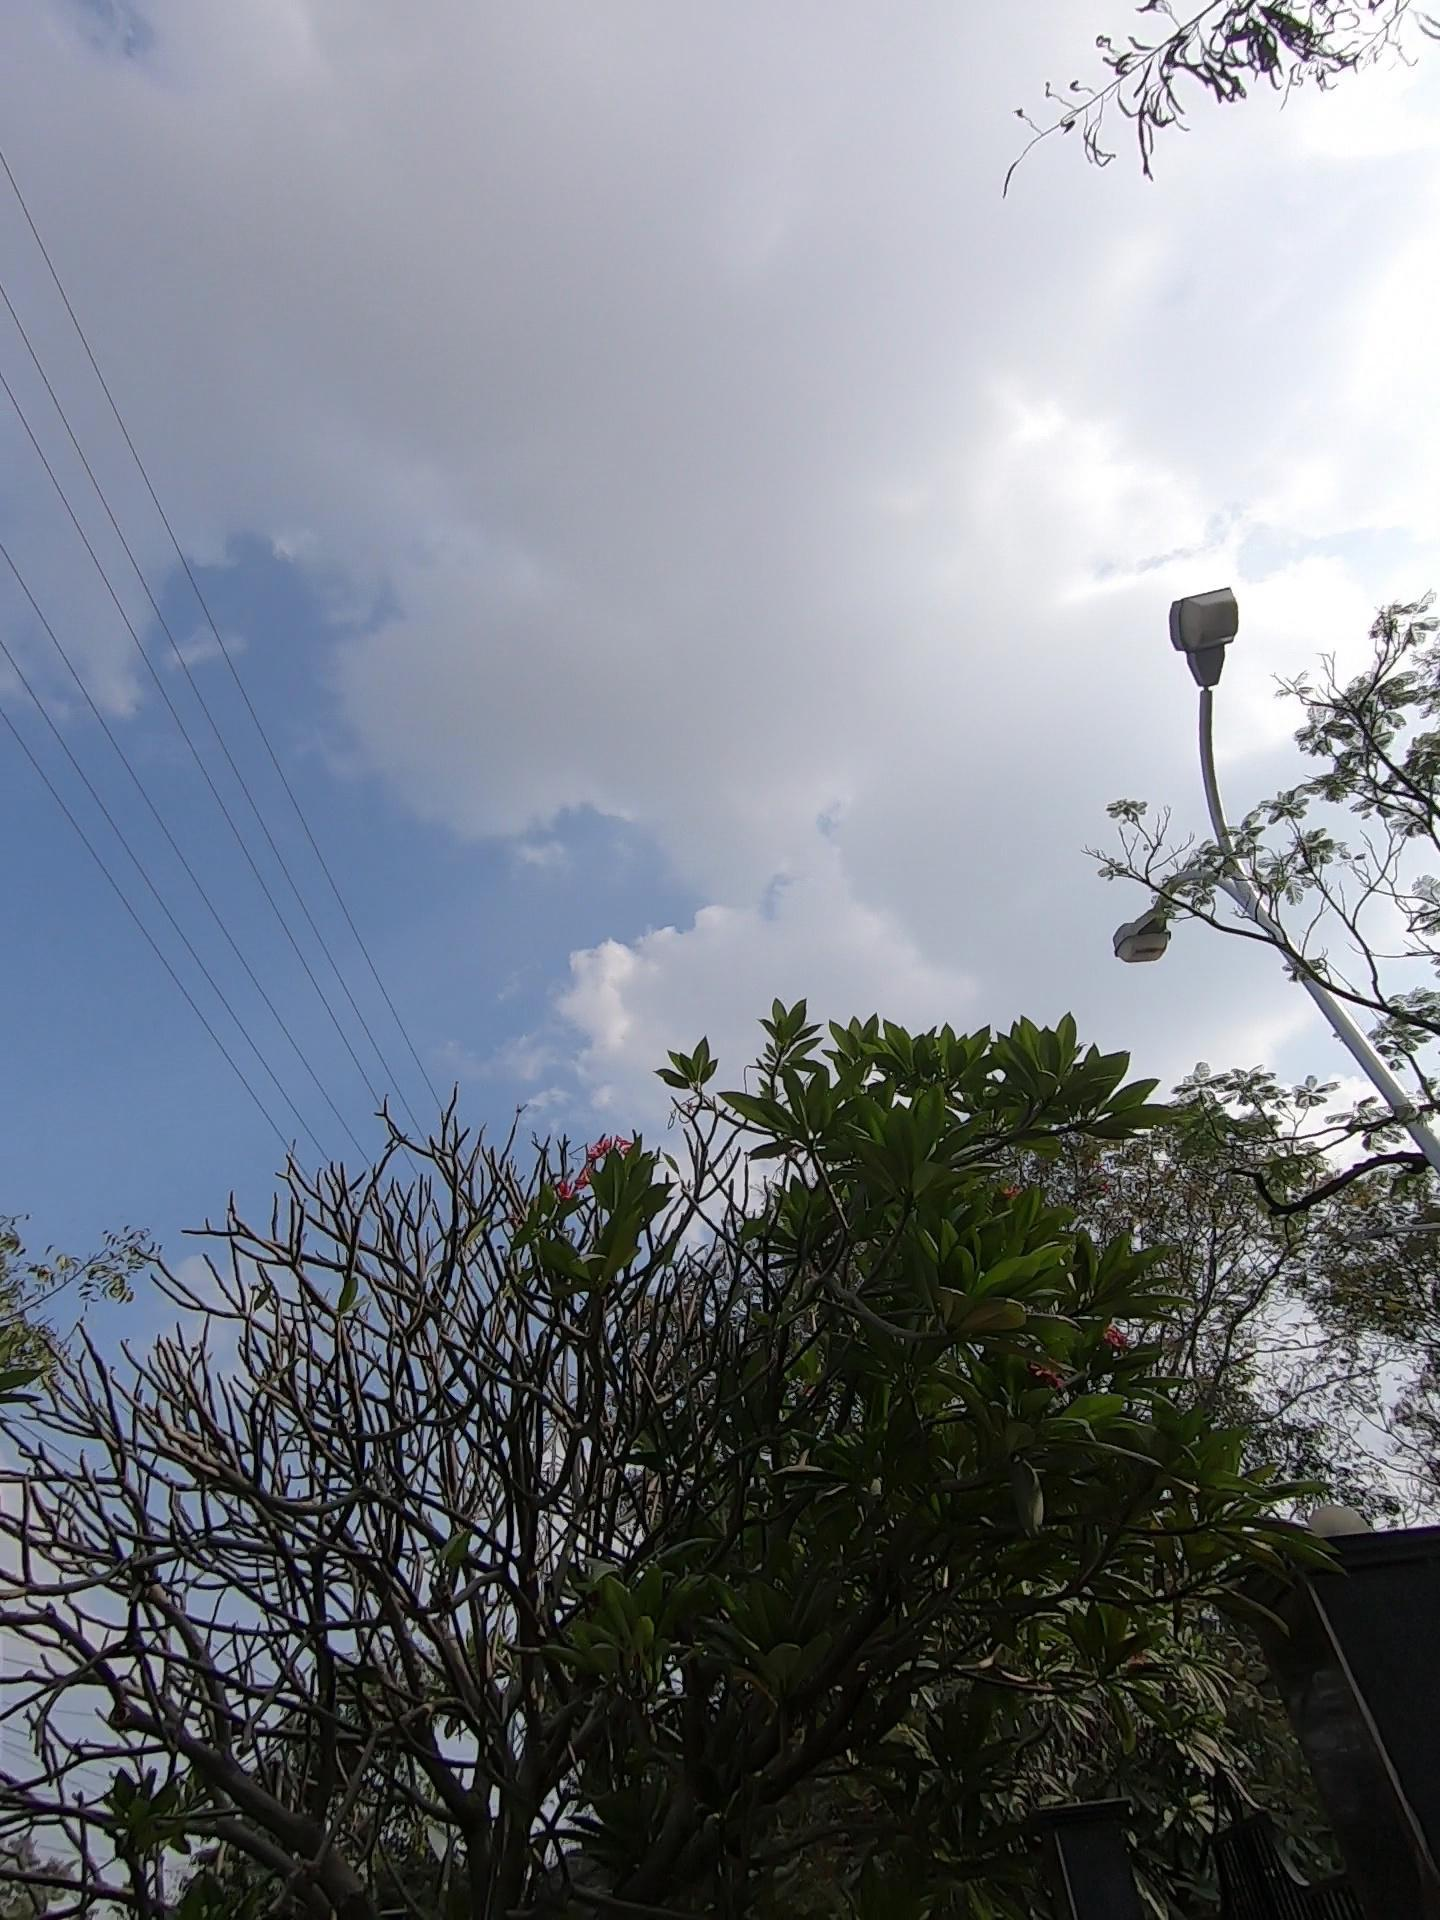off: (950, 491, 1339, 984)
